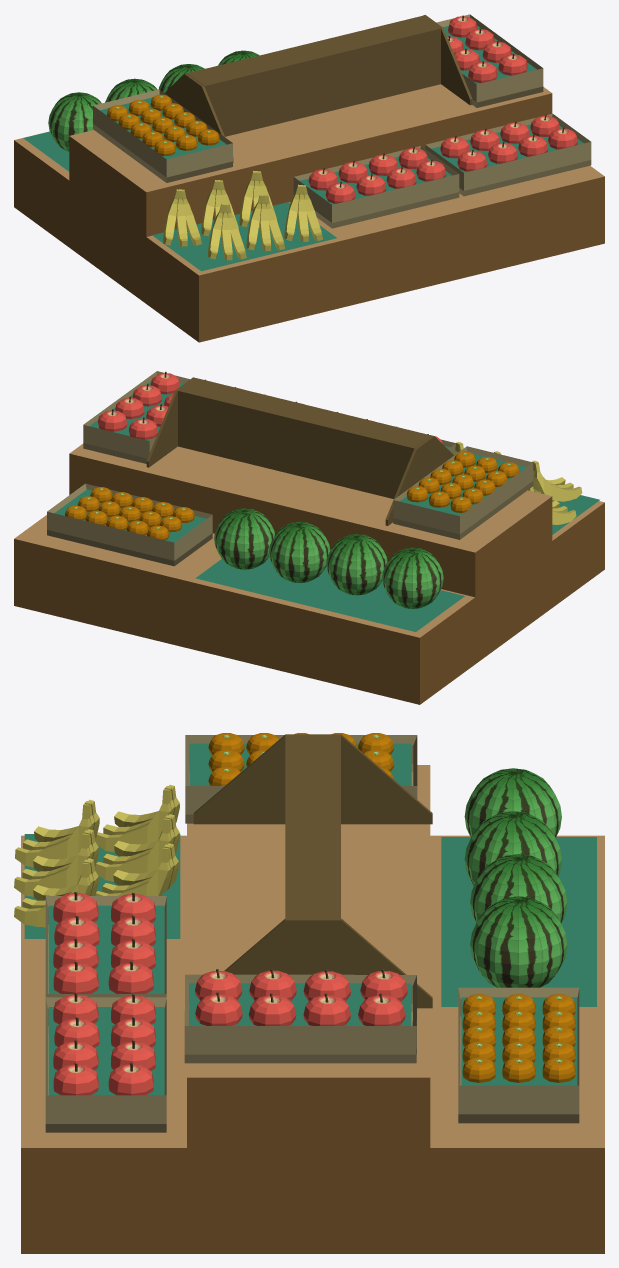
The model's file is shelf_furit.fbx.
3 renders of one model, top to bottom at view 1: azimuth 30°, elevation 25°; view 2: azimuth 150°, elevation 25°; view 3: azimuth 270°, elevation 25°, orthographic. The views are drawn at different scales.
Parts seen in each view (by area): view 1: shelf_fruit; view 2: shelf_fruit; view 3: shelf_fruit.
Part boxes in pixels (bbox=[...]): shelf_fruit: bbox=[14, 14, 604, 342]; shelf_fruit: bbox=[14, 371, 604, 704]; shelf_fruit: bbox=[14, 733, 604, 1253].
Size of the model in its own units: 382 by 155 by 304.
10 materials, 4 textured.
